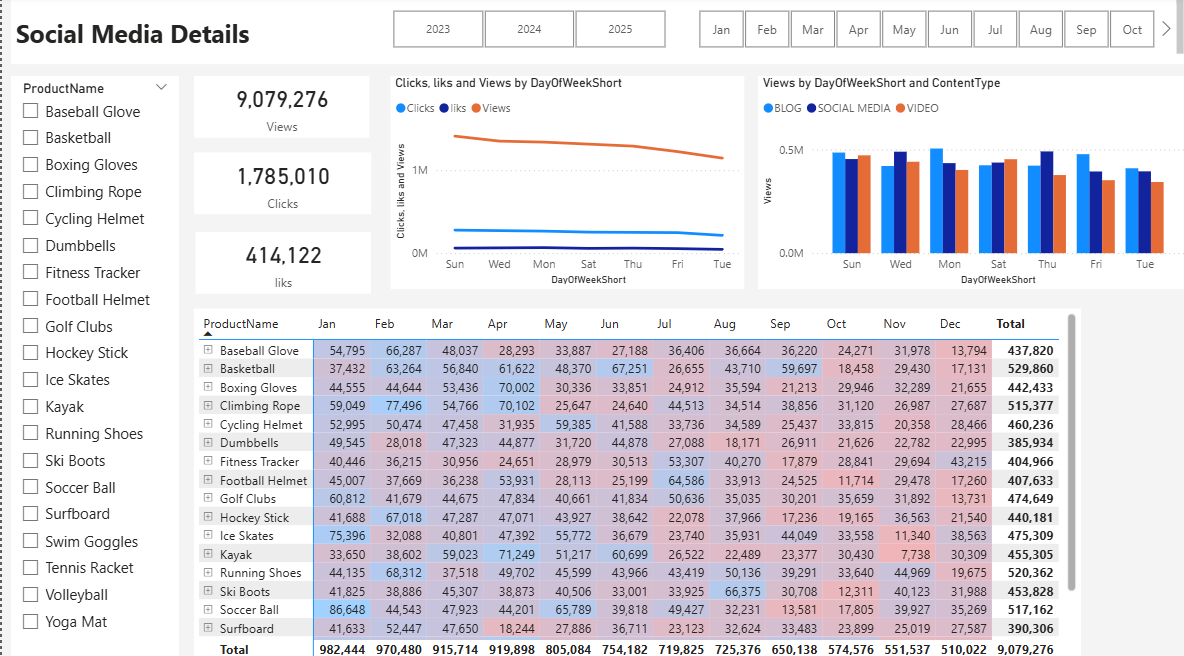

This screenshot's page, from the dashboard's own definition file:
{"tool":"powerbi","page":{"name":"Social  Media Details","canvas":[1280,720],"ordinal":2},"visuals":[{"type":"textbox","box":[9.7,0,1271.1,74.5],"z":0},{"type":"slicer","fields":{"Values":["dim_products.ProductName"]},"box":[9.7,87.4,181.4,633.1],"z":1000},{"type":"card","fields":{"Values":["_Calculations.Views"]},"box":[207.3,87.4,189.4,66.4],"z":2000},{"type":"card","fields":{"Values":["_Calculations.Clicks"]},"box":[207.3,170,191.1,66.4],"z":3000},{"type":"card","fields":{"Values":["_Calculations.liks"]},"box":[208.9,255.8,189.4,66.4],"z":4000},{"type":"slicer","fields":{"Values":["Calendar.Year"]},"box":[396.7,9.7,343.3,53.4],"z":5000},{"type":"slicer","fields":{"Values":["Calendar.MonthNameShort"]},"box":[727,9.7,540.8,53.4],"z":6000},{"type":"lineChart","fields":{"Category":["Calendar.DayOfWeekShort"],"Y":["_Calculations.Clicks","_Calculations.liks","_Calculations.Views"]},"box":[419.4,87.4,382.1,229.9],"z":7000},{"type":"clusteredColumnChart","fields":{"Category":["Calendar.DayOfWeekShort"],"Y":["_Calculations.Views"],"Series":["fact_engagement_data.ContentType"]},"box":[816.1,87.4,464.7,229.9],"z":8000},{"type":"pivotTable","fields":{"Rows":["dim_products.ProductName","fact_engagement_data.ContentType"],"Columns":["Calendar.MonthNameShort"],"Values":["_Calculations.Views"]},"box":[207.3,338.4,957,382.1],"z":9000}]}

Visuals, with their boxes in screenshot pixels (x1, y1, x2, y2), scaled from the page's 1280x720 canvas onto the 1184x656 screenshot:
textbox: x1=9, y1=0, x2=1183, y2=68
slicer - dim_products.ProductName: x1=9, y1=80, x2=177, y2=655
card - _Calculations.Views: x1=192, y1=80, x2=367, y2=140
card - _Calculations.Clicks: x1=192, y1=155, x2=369, y2=215
card - _Calculations.liks: x1=193, y1=233, x2=368, y2=294
slicer - Calendar.Year: x1=367, y1=9, x2=684, y2=57
slicer - Calendar.MonthNameShort: x1=672, y1=9, x2=1173, y2=57
lineChart - Calendar.DayOfWeekShort x _Calculations.Clicks: x1=388, y1=80, x2=741, y2=289
clusteredColumnChart - Calendar.DayOfWeekShort x _Calculations.Views: x1=755, y1=80, x2=1183, y2=289
pivotTable - dim_products.ProductName x fact_engagement_data.ContentType: x1=192, y1=308, x2=1077, y2=655
